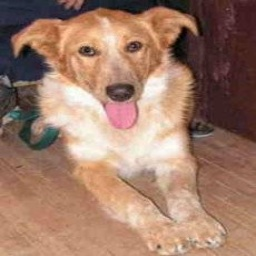dog: (14, 6, 233, 254)
